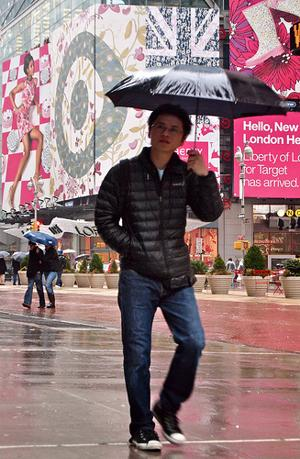person: (95, 103, 224, 450)
